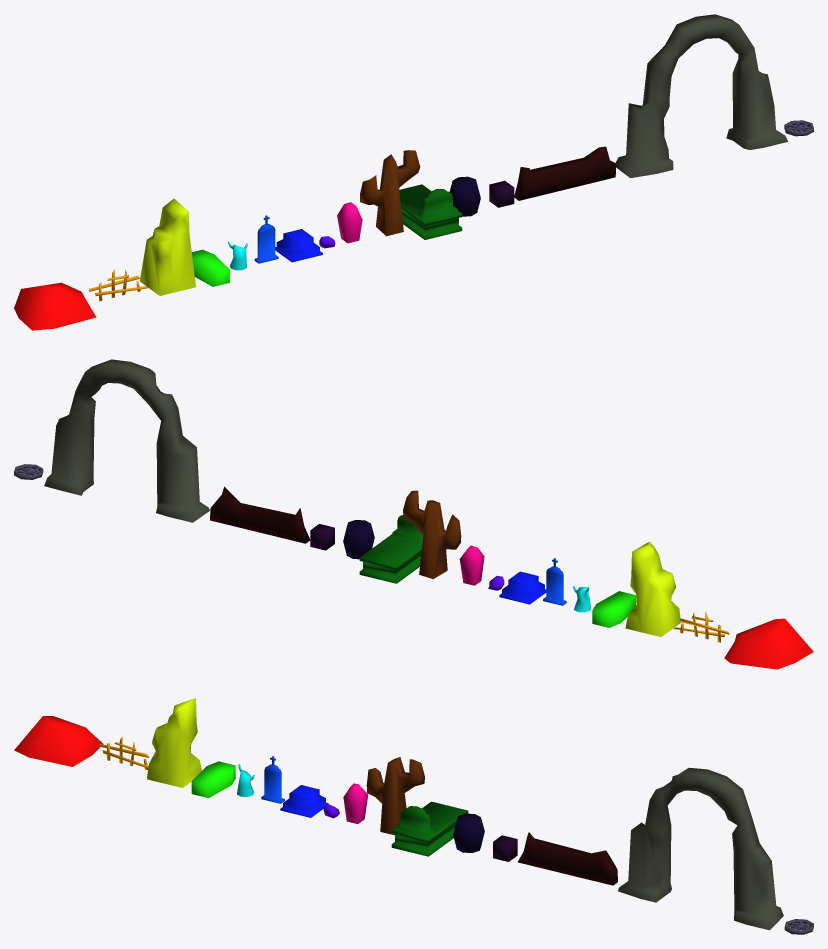
The model's file is AllObject_Color.FBX.
The picture shows the model from 3 angles, top to bottom: view 1: azimuth 30°, elevation 25°; view 2: azimuth 150°, elevation 25°; view 3: azimuth 330°, elevation 25°; orthographic projection.
Parts seen in each view (by area): view 1: Stone_6, Stone_2 (×2), Stone_4, Stone, Cactus_2, ToomStone_3, Cactus (×2), ToomStone (×2), WaterBox, Box; view 2: Stone_6, Stone_2 (×2), Stone, Cactus_2, ToomStone_3, Stone_4, ToomStone (×2), Cactus (×2), WaterBox, Box; view 3: Stone_6, Stone_2 (×2), Stone, ToomStone_3, Stone_4, Cactus_2, ToomStone (×2), Cactus (×2), WaterBox, Box.
Part boxes in pixels (x1,y1,x2,y2): Stone_6: [615, 14, 787, 178]; Stone_2 (×2): [89, 198, 195, 301]; Stone_4: [514, 146, 615, 200]; Stone: [14, 282, 96, 330]; Cactus_2: [360, 150, 420, 236]; ToomStone_3: [399, 184, 462, 239]; Cactus (×2): [275, 202, 362, 262]; ToomStone (×2): [192, 215, 278, 286]; WaterBox: [449, 176, 480, 216]; Box: [489, 181, 514, 207]; Stone_6: [44, 359, 209, 522]; Stone_2 (×2): [625, 542, 729, 642]; Stone: [724, 618, 813, 669]; Cactus_2: [403, 490, 461, 578]; ToomStone_3: [359, 515, 423, 583]; Stone_4: [210, 486, 310, 543]; ToomStone (×2): [543, 558, 636, 627]; Cactus (×2): [459, 545, 546, 604]; WaterBox: [343, 520, 374, 559]; Box: [310, 524, 334, 550]; Stone_6: [618, 767, 783, 930]; Stone_2 (×2): [98, 698, 201, 787]; Stone: [14, 716, 103, 766]; ToomStone_3: [391, 801, 468, 856]; Stone_4: [518, 832, 617, 885]; Cactus_2: [366, 757, 424, 835]; ToomStone (×2): [191, 756, 284, 803]; Cactus (×2): [280, 783, 368, 823]; WaterBox: [453, 813, 484, 852]; Box: [493, 835, 517, 861].
Bounding box in the file's own units: 20.01 × 3.22 × 1.75.
